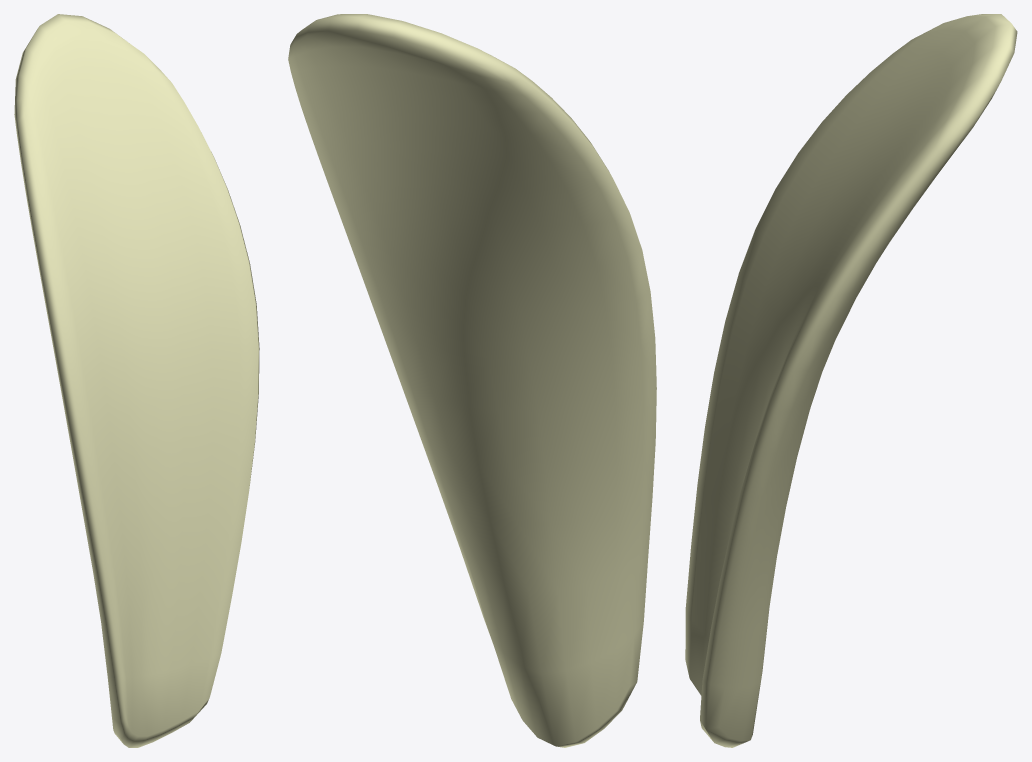
File: Petal_PrimBlock_2.fbx
3 renders of one model, left to right at view 1: azimuth 30°, elevation 25°; view 2: azimuth 150°, elevation 25°; view 3: azimuth 270°, elevation 25°, orthographic. The views are drawn at different scales.
Parts seen in each view (by area): view 1: polySurface18; view 2: polySurface18; view 3: polySurface18.
Part boxes in pixels (x1,y1,x2,y2): polySurface18: [14, 14, 259, 747]; polySurface18: [288, 14, 656, 747]; polySurface18: [685, 14, 1017, 747].
Size of the model in its own units: 0.1344 by 0.3772 by 0.153.
